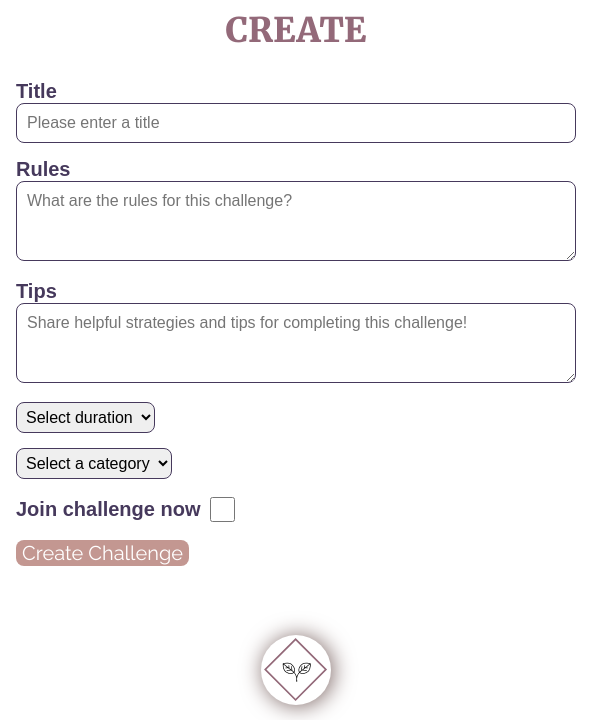
Climate Challenge › Create › shows an error if invalid input
Step 1. Click the button with test id "form [data-cy=\"submit-button\"]" → (103, 553), box [16, 540, 189, 566]
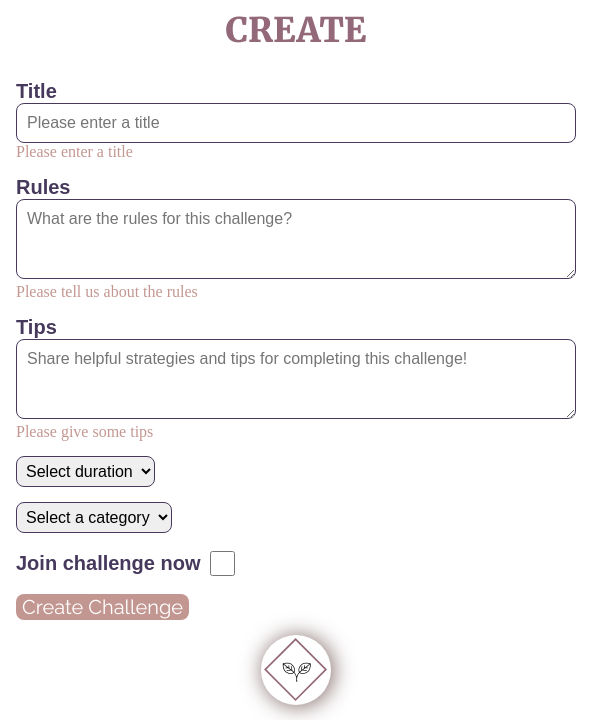
Now the number of elements with test id "form [data-cy=\"error\"]" is 1, box [16, 143, 133, 160]
Now the text with test id "form [data-cy=\"error\"]" reads "Please enter a title", box [16, 143, 133, 160]
